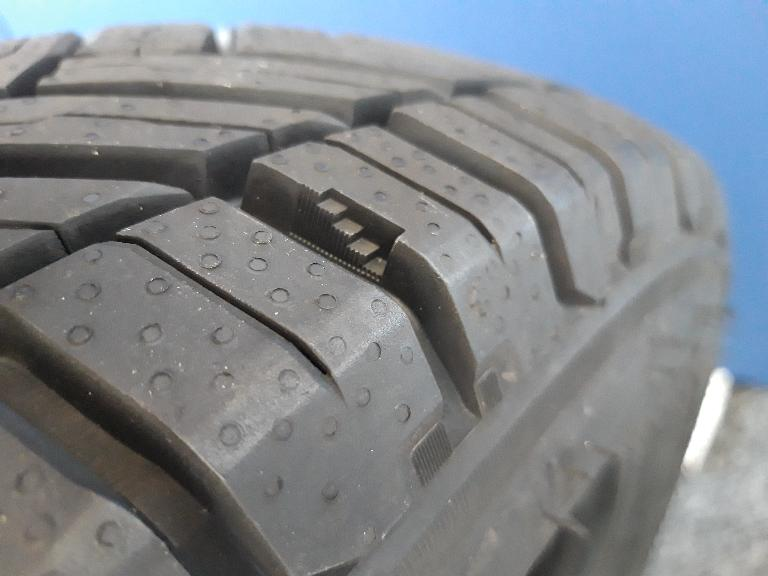temoin:100: (285, 178, 410, 290)
